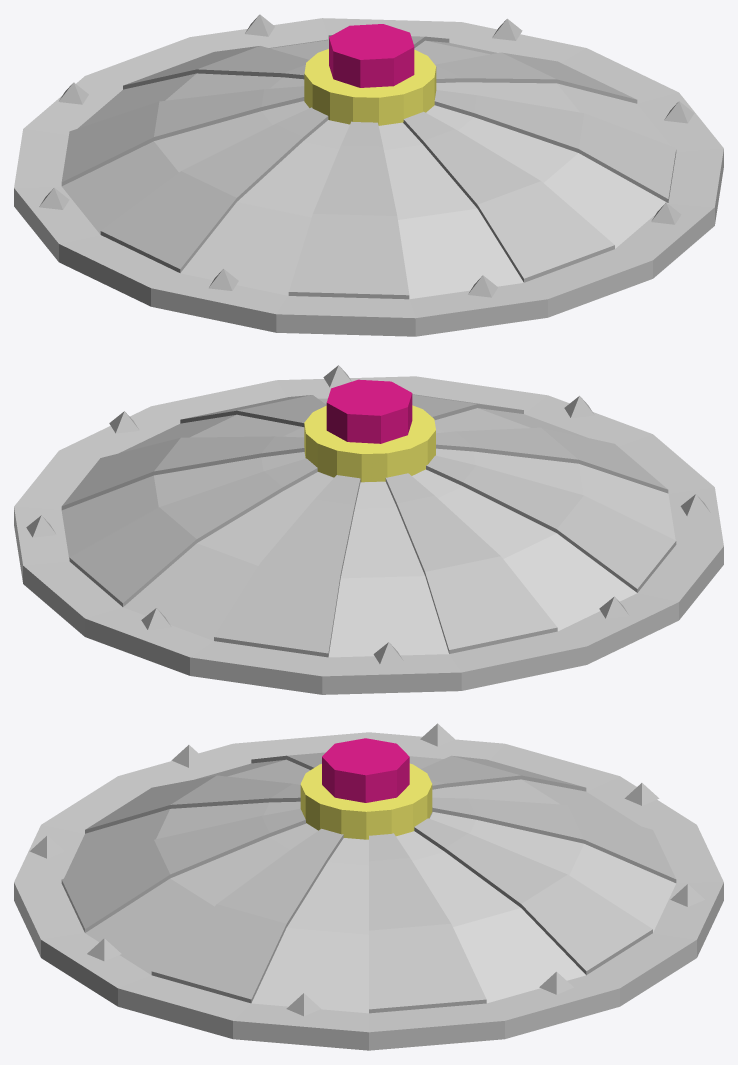
File: Shield_1_d_metal.fbx
3 renders of one model, top to bottom at view 1: azimuth 30°, elevation 25°; view 2: azimuth 150°, elevation 25°; view 3: azimuth 270°, elevation 25°, orthographic.
Parts seen in each view (by area): view 1: Circle.116, Circle.115, Circle.114, Circle.118, Circle.117, Cone.253; view 2: Circle.116, Circle.115, Circle.114, Circle.118, Circle.117, Cone.253; view 3: Circle.116, Circle.115, Circle.114, Circle.118, Circle.117, Cone.253.
Part boxes in pixels (x1,y1,x2,y2): Circle.116: (61, 35, 676, 299); Circle.115: (62, 39, 670, 299); Circle.114: (14, 18, 723, 336); Circle.118: (304, 49, 436, 125); Circle.117: (329, 24, 414, 87); Cone.253: (39, 14, 694, 297); Circle.116: (61, 394, 676, 657); Circle.115: (61, 398, 675, 657); Circle.114: (14, 376, 723, 694); Circle.118: (304, 405, 435, 482); Circle.117: (326, 379, 412, 443); Cone.253: (26, 365, 710, 664); Circle.116: (61, 752, 676, 1013); Circle.115: (64, 756, 676, 1013); Circle.114: (14, 732, 723, 1050); Circle.118: (300, 763, 432, 839); Circle.117: (322, 738, 409, 802); Cone.253: (29, 723, 704, 1016).
Bounding box in the file's own units: 80.85 × 29.11 × 80.85.
